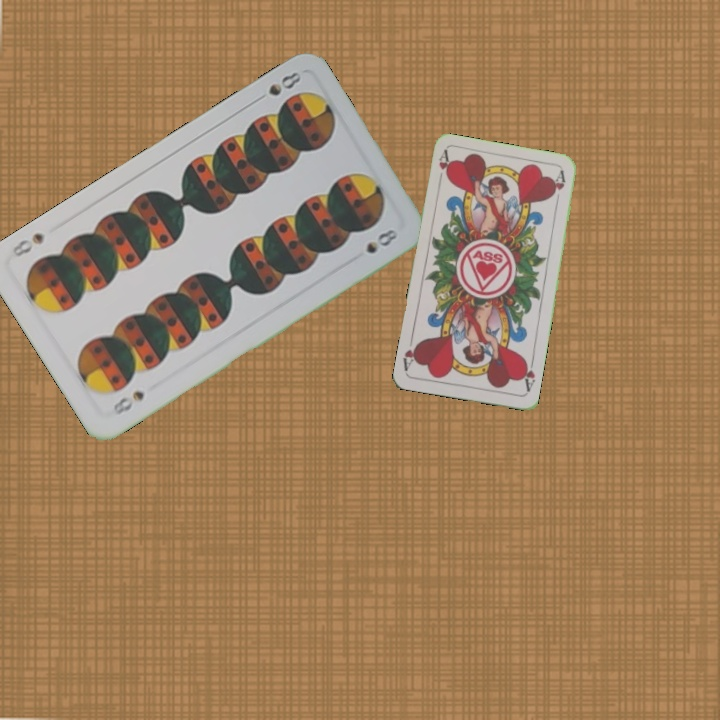HA: (434, 147, 453, 188), (518, 354, 537, 394)
S8: (250, 67, 304, 106), (109, 386, 147, 418)
